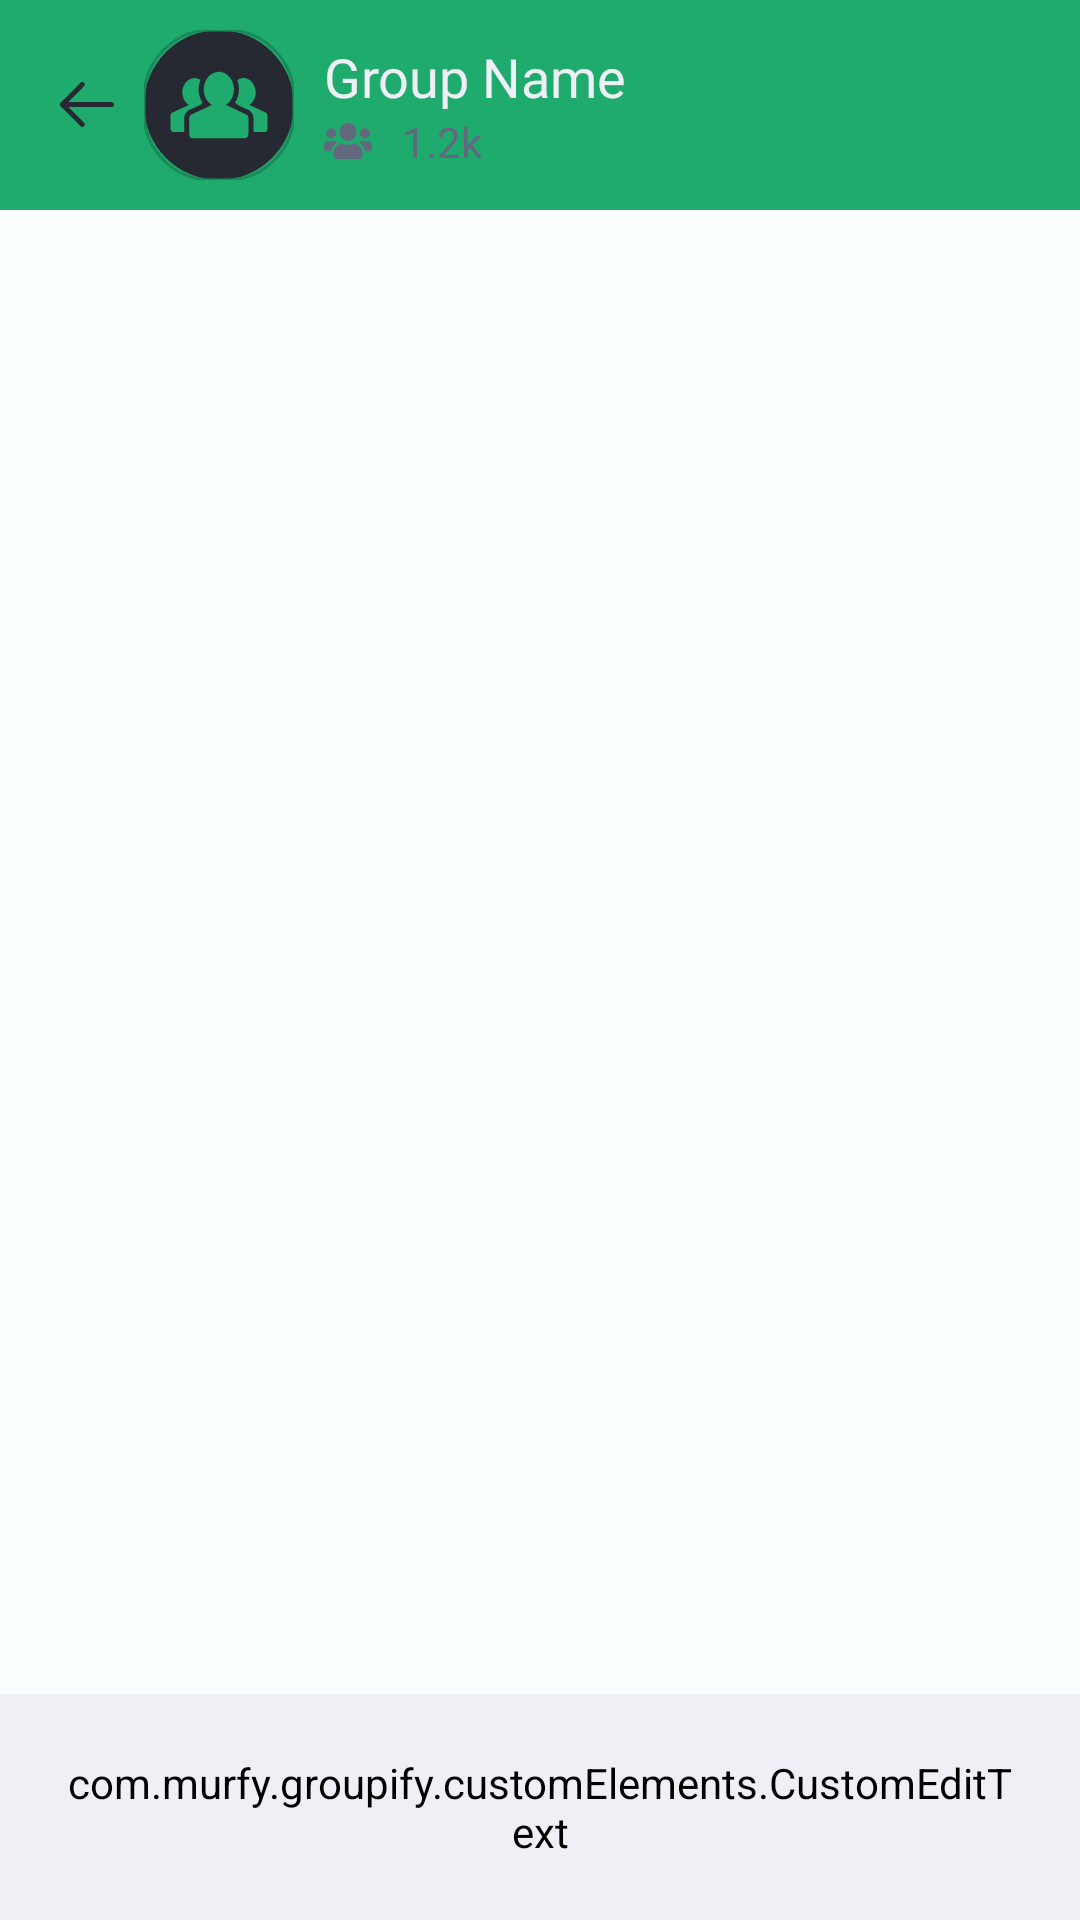

Icon bounding boxes for this 1080x1920 phone screenshot, format (x1, y1, x2, y2):
arrow left: (60, 82, 114, 127)
